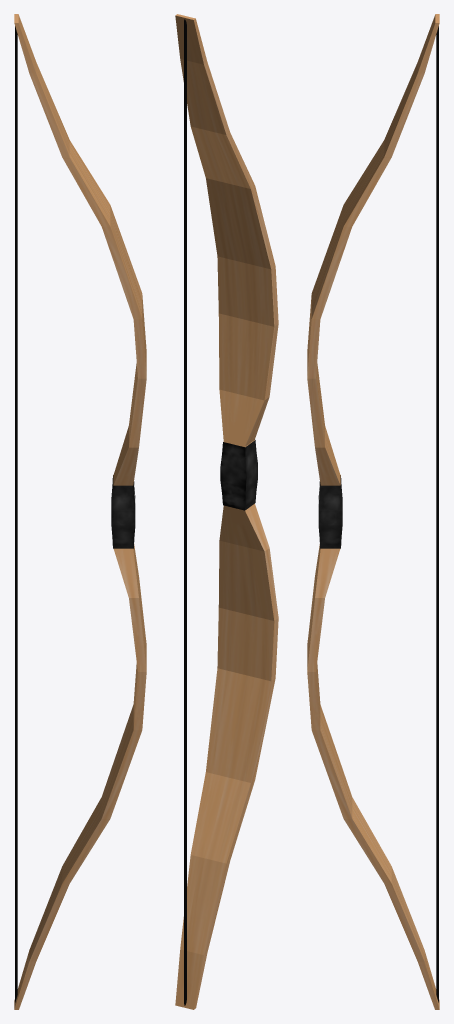
The model's file is Recurve bow.fbx.
The picture shows the model from 3 angles, left to right: view 1: azimuth 90°, elevation 25°; view 2: azimuth 150°, elevation 25°; view 3: azimuth 270°, elevation 25°; orthographic projection.
Visible parts, largest first — view 1: Limb, Bow string; view 2: Limb, Bow string; view 3: Limb, Bow string.
Part boxes in pixels (x1=…): Limb: x1=14, y1=14, x2=146, y2=1009; Bow string: x1=15, y1=26, x2=17, y2=1002; Limb: x1=175, y1=14, x2=278, y2=1009; Bow string: x1=184, y1=19, x2=186, y2=1005; Limb: x1=307, y1=14, x2=439, y2=1009; Bow string: x1=436, y1=26, x2=438, y2=1002.
Bounding box in the file's own units: 8.53 × 145 × 17.68.
1 material, 1 textured.
